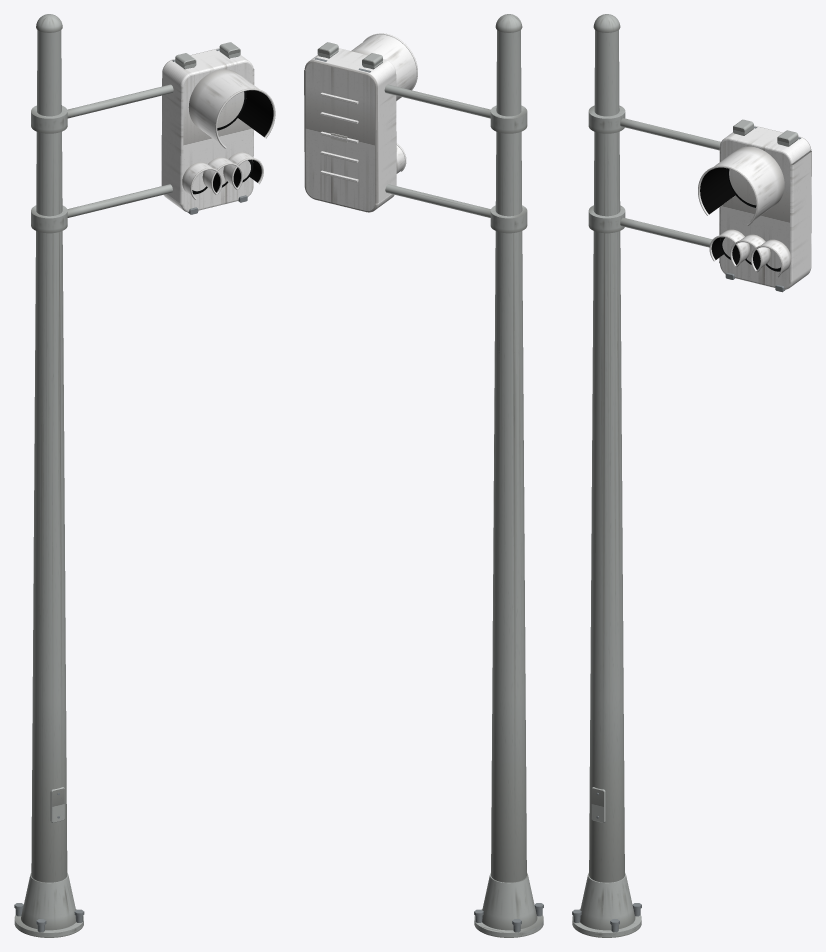
The picture shows the model from 3 angles, left to right: view 1: azimuth 30°, elevation 25°; view 2: azimuth 150°, elevation 25°; view 3: azimuth 330°, elevation 25°; orthographic projection.
Visible parts, largest first — view 1: jp-tram; view 2: jp-tram; view 3: jp-tram.
Boxes of the visible parts, bbox=[...] form: jp-tram: bbox=[14, 14, 275, 937]; jp-tram: bbox=[304, 14, 543, 937]; jp-tram: bbox=[572, 14, 811, 937].
Bounding box in the file's own units: 1.42 × 5.47 × 0.6052.
Materials: 15 (3 with a texture image).
